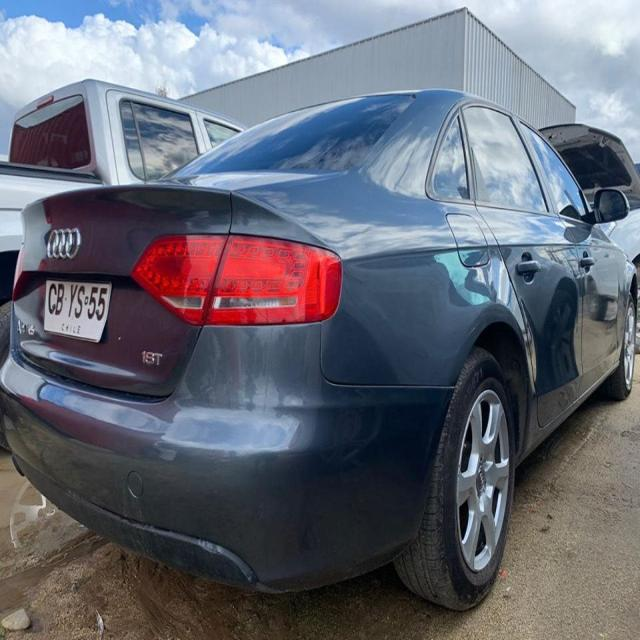patente: (42, 278, 112, 343)
